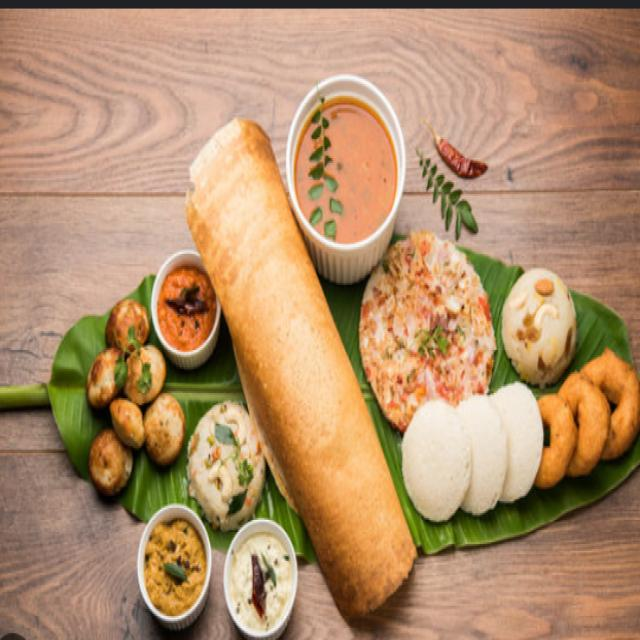dosa: (187, 121, 415, 617)
